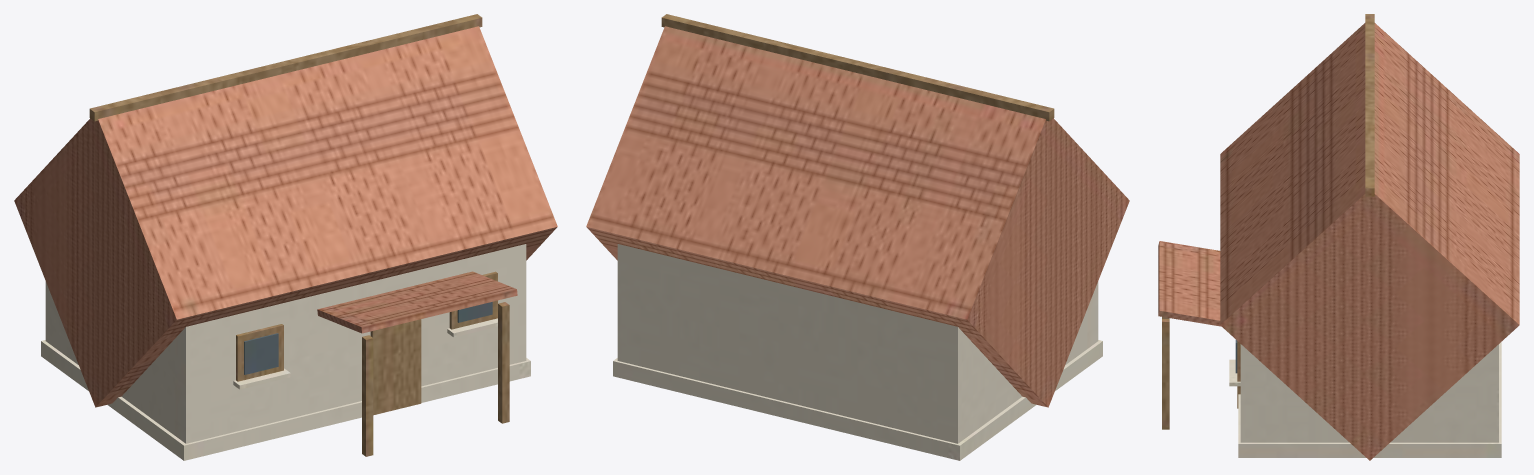
Rendered from escenario.glb.
The picture shows the model from 3 angles, left to right: view 1: azimuth 30°, elevation 25°; view 2: azimuth 150°, elevation 25°; view 3: azimuth 270°, elevation 25°; orthographic projection. The views are drawn at different scales.
Parts seen in each view (by area): view 1: casa; view 2: casa; view 3: casa.
Part boxes in pixels (x1,y1,x2,y2): casa: [14, 14, 557, 460]; casa: [586, 14, 1129, 460]; casa: [1158, 14, 1519, 460].
Size of the model in its own units: 7.98 by 5.99 by 7.
2 materials, 2 textured.
